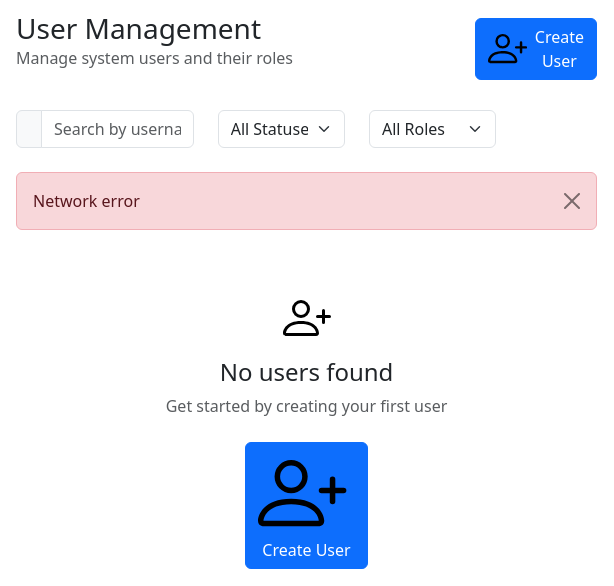
Test: UserManagementPage Integration Tests › Error Handling › should allow dismissing error message
Expected: the text "Network error" is shown, [16,172,597,230]
// Find and click close button on alert
Click the button named "close" at (572, 201), box [548,173,596,229]
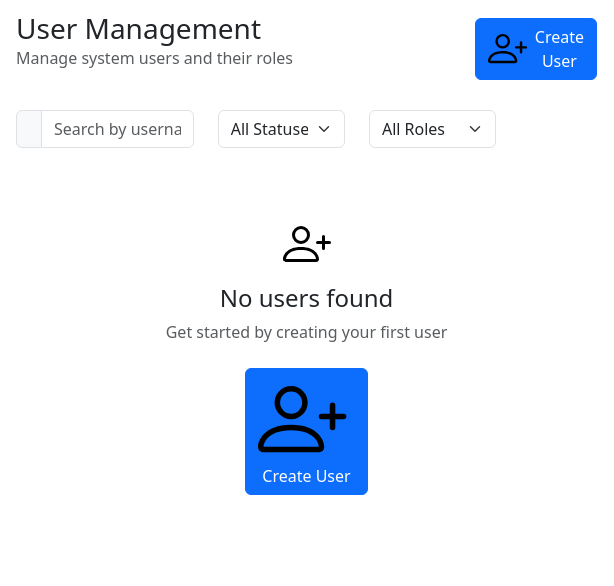
Result: the text "Network error" is gone
